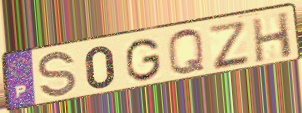0: (83, 44, 117, 90)
G: (125, 37, 163, 84)
H: (249, 9, 295, 65)
Q: (166, 28, 208, 78)
S: (36, 49, 79, 102)
Z: (206, 19, 252, 71)
